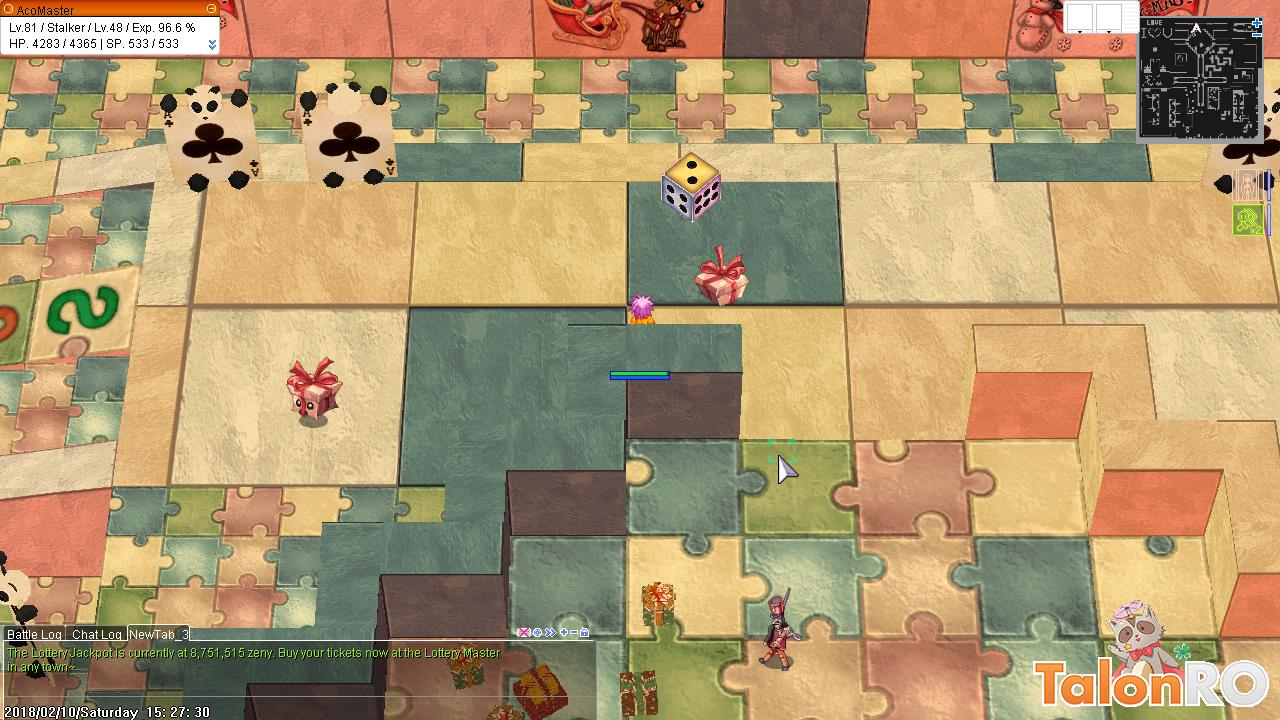mob: (755, 584, 801, 679)
myst_case: (282, 353, 344, 427), (694, 242, 754, 311)
